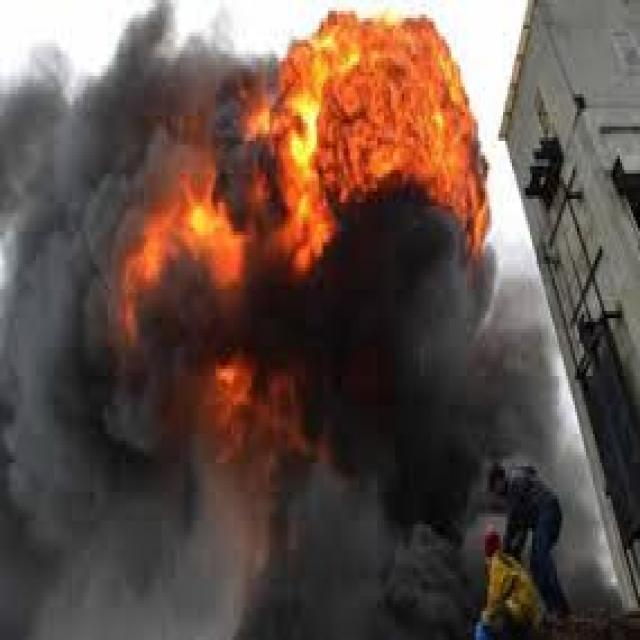fire: (278, 8, 492, 278)
smoke: (2, 36, 281, 640), (280, 282, 472, 640), (472, 282, 559, 463), (557, 441, 620, 615)
